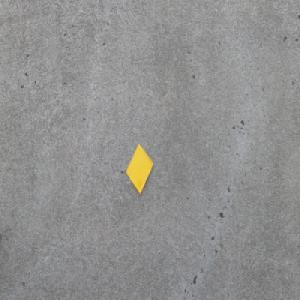PlasticPart: (125, 143, 153, 195)
